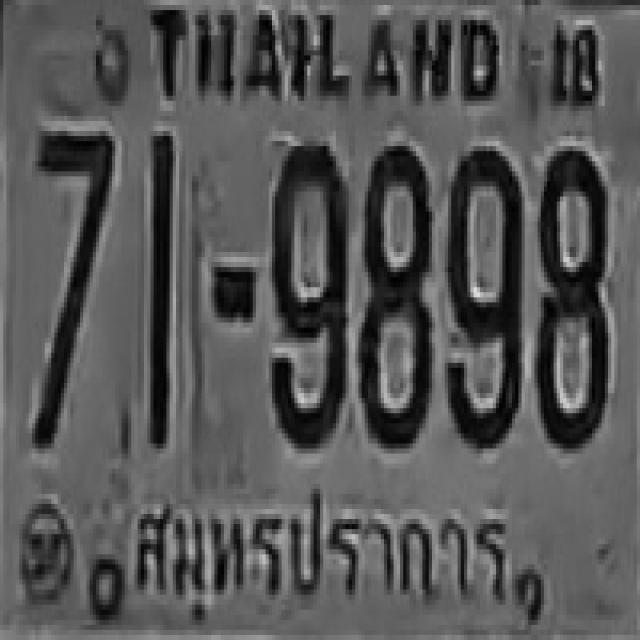1: (147, 131, 173, 443)
7: (32, 126, 112, 443), (35, 126, 112, 353)
8: (534, 146, 608, 449), (358, 144, 432, 446)
9: (268, 139, 346, 446), (444, 146, 522, 449)
SamutPrakan: (128, 471, 515, 620)
